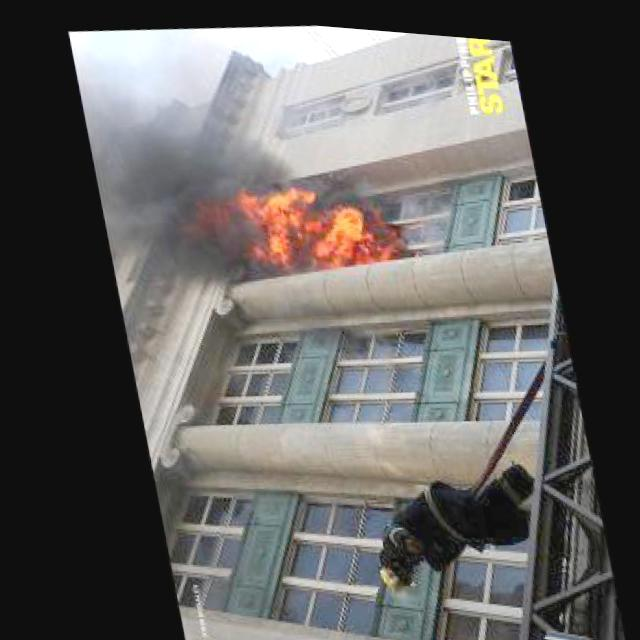Fire: (213, 156, 408, 294)
Smoke: (75, 70, 293, 291)
